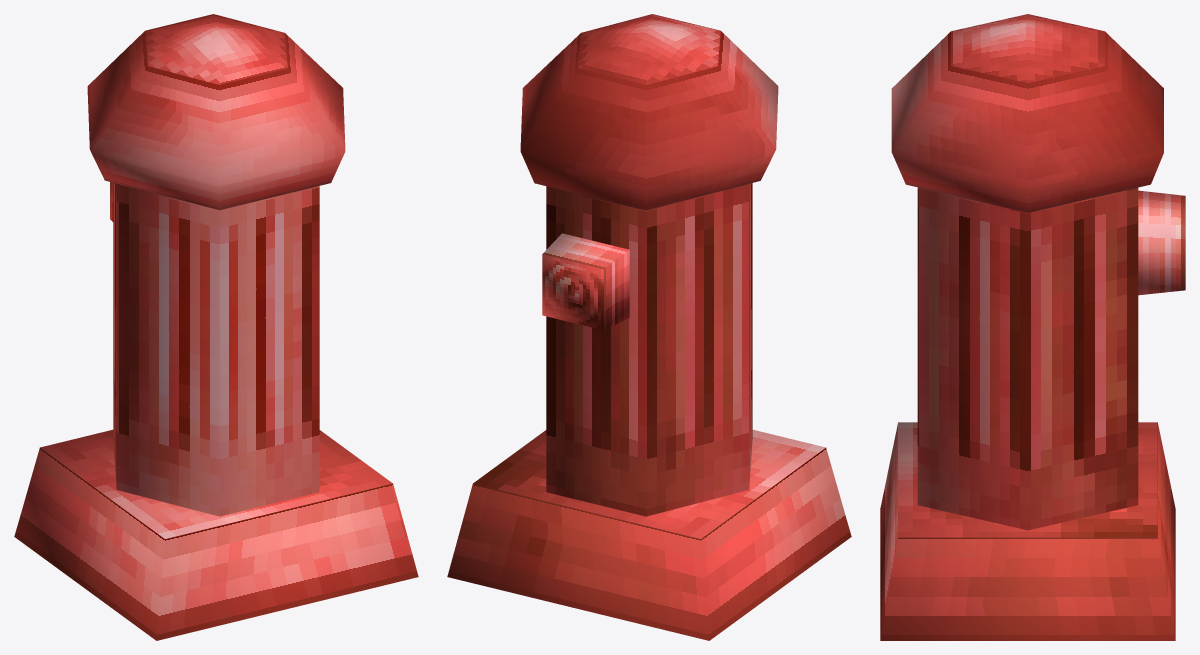
The model's file is Hydrant.FBX.
3 views of the same model, side by side, from view 1: azimuth 30°, elevation 25°; view 2: azimuth 150°, elevation 25°; view 3: azimuth 270°, elevation 25° (orthographic). The views are drawn at different scales.
Parts seen in each view (by area): view 1: Hydrant; view 2: Hydrant; view 3: Hydrant.
Boxes of the visible parts, x1,y1,x2,y2 form: Hydrant: [14, 14, 418, 640]; Hydrant: [447, 14, 851, 640]; Hydrant: [880, 14, 1185, 640].
Size of the model in its own units: 53.41 by 103 by 51.93.
